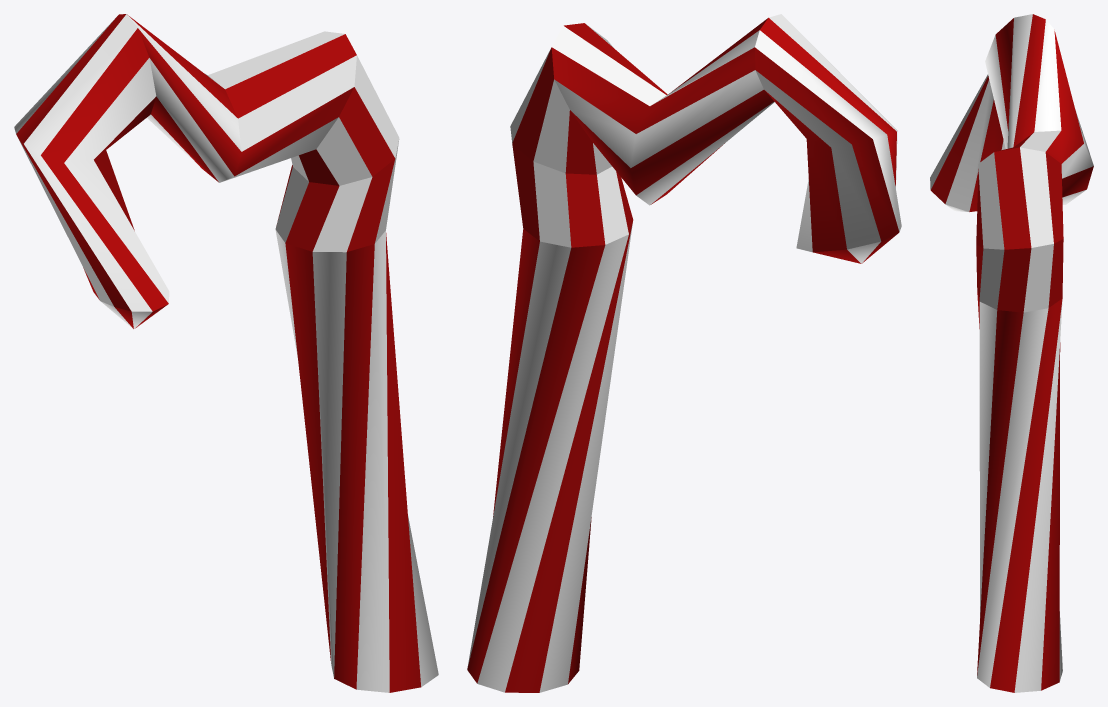
Rendered from CC_warped2.fbx.
3 views of the same model, side by side, from view 1: azimuth 30°, elevation 25°; view 2: azimuth 150°, elevation 25°; view 3: azimuth 270°, elevation 25° (orthographic). The views are drawn at different scales.
Visible parts, largest first — view 1: pCylinder1; view 2: pCylinder1; view 3: pCylinder1.
Boxes of the visible parts, x1,y1,x2,y2 form: pCylinder1: (14, 14, 438, 692); pCylinder1: (467, 14, 901, 692); pCylinder1: (930, 14, 1093, 692).
Size of the model in its own units: 16.46 by 27.11 by 7.14.
Materials: 1 (1 with a texture image).
